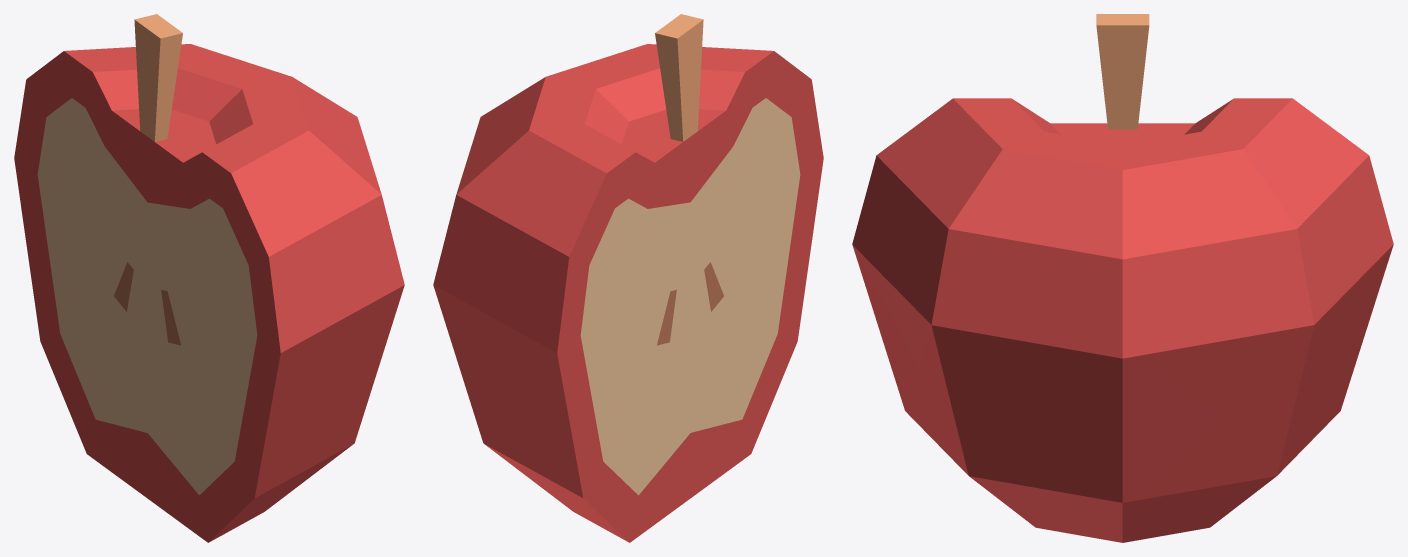
Rendered from appleHalf.gltf.
3 renders of one model, left to right at view 1: azimuth 30°, elevation 25°; view 2: azimuth 150°, elevation 25°; view 3: azimuth 270°, elevation 25°, orthographic.
Size of the model in its own units: 0.0981 by 0.1907 by 0.1963.
